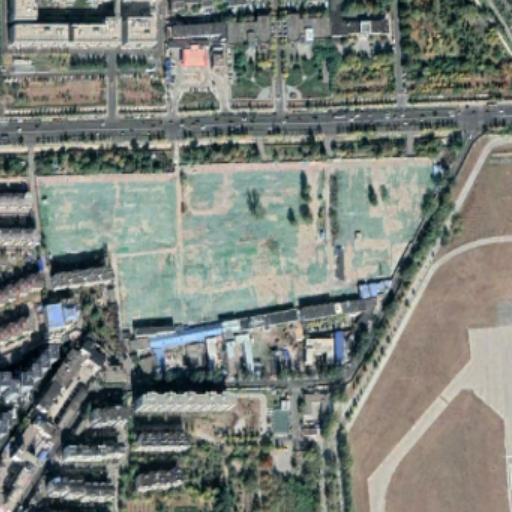cw: (31, 159, 436, 340)
